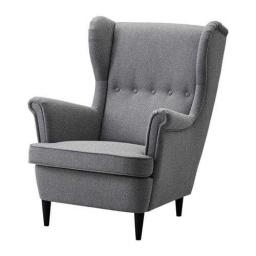Chair: (26, 23, 225, 240)
